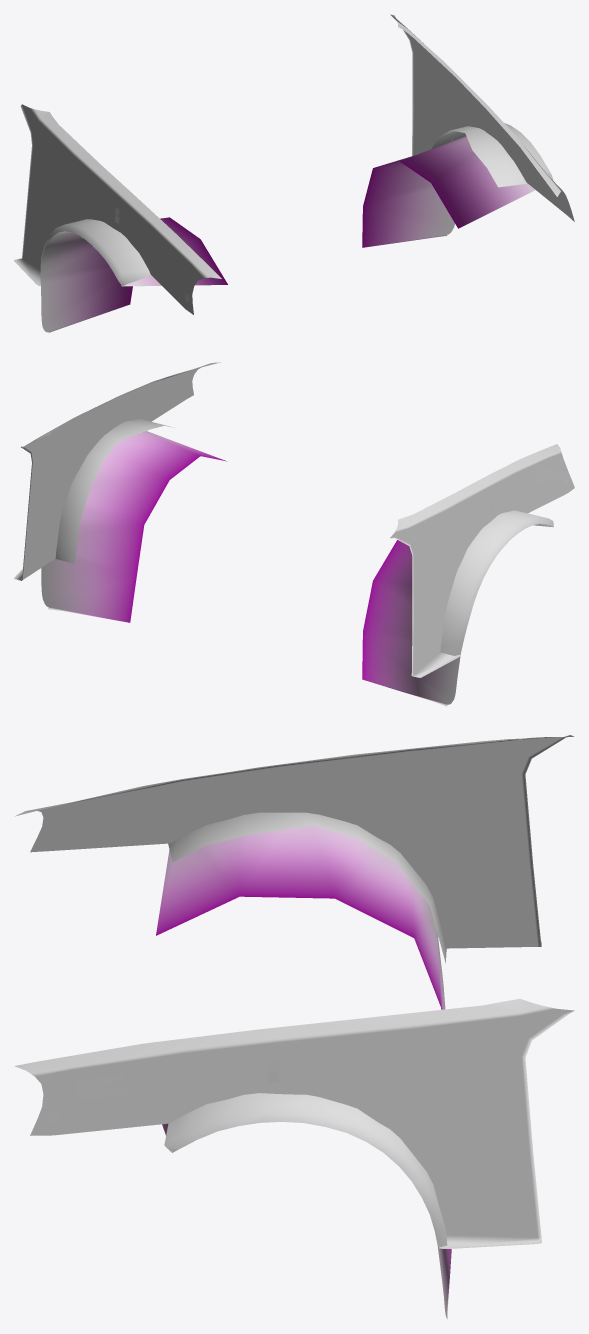
Rendered from Car_Nissan_SkylineGTRVspecR34_1999_FendersChassisF_SetA.fbx.
3 renders of one model, top to bottom at view 1: azimuth 30°, elevation 25°; view 2: azimuth 150°, elevation 25°; view 3: azimuth 270°, elevation 25°, orthographic. The views are drawn at different scales.
Visible parts, largest first — view 1: FendersChassisF 6; view 2: FendersChassisF 6; view 3: FendersChassisF 6.
Part boxes in pixels (left/top/right/bottom): FendersChassisF 6: left=14, top=14, right=574, bottom=332; FendersChassisF 6: left=14, top=362, right=574, bottom=706; FendersChassisF 6: left=14, top=735, right=574, bottom=1319.
Size of the model in its own units: 1.77 by 0.7701 by 1.3.
